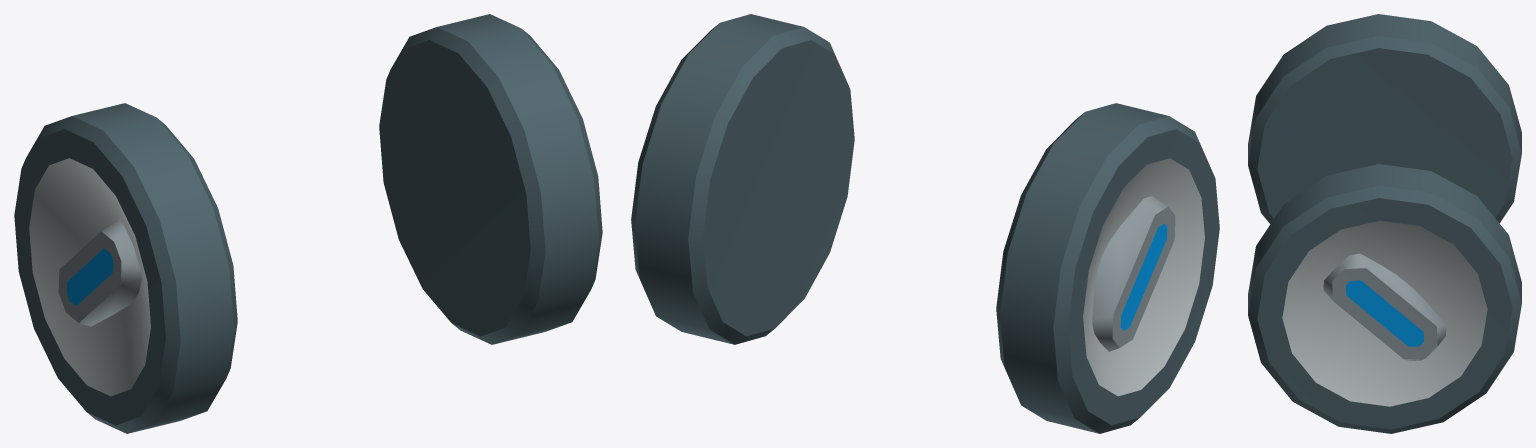
File: Delivery_drone_005_wheels_002.fbx
3 views of the same model, side by side, from view 1: azimuth 30°, elevation 25°; view 2: azimuth 150°, elevation 25°; view 3: azimuth 270°, elevation 25° (orthographic). The views are drawn at different scales.
Visible parts, largest first — view 1: Delivery_drone_005_wheels_002; view 2: Delivery_drone_005_wheels_002; view 3: Delivery_drone_005_wheels_002.
Part boxes in pixels (<box>): Delivery_drone_005_wheels_002: <box>14,14,602,433</box>; Delivery_drone_005_wheels_002: <box>631,14,1219,433</box>; Delivery_drone_005_wheels_002: <box>1248,14,1521,433</box>.
Bounding box in the file's own units: 70.19 × 45.26 × 45.26.
